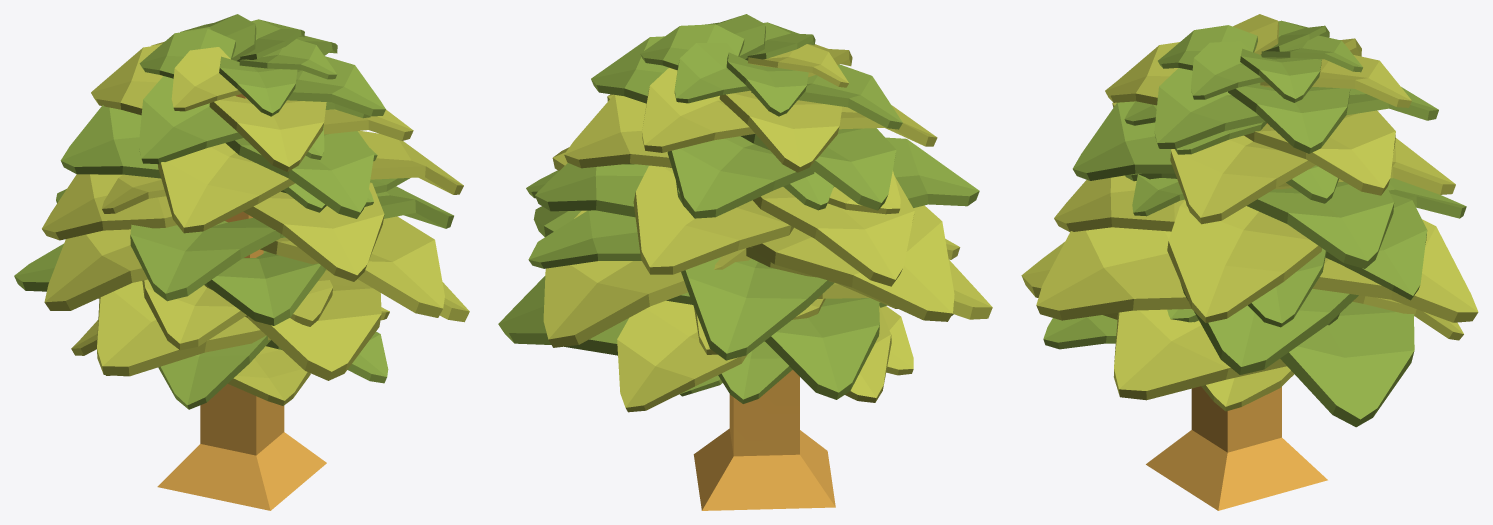
The model's file is TreeFruitL3-A.fbx.
3 renders of one model, left to right at view 1: azimuth 30°, elevation 25°; view 2: azimuth 150°, elevation 25°; view 3: azimuth 270°, elevation 25°, orthographic. The views are drawn at different scales.
Visible parts, largest first — view 1: Plane.002; view 2: Plane.002; view 3: Plane.002.
Part boxes in pixels (left/top/right/bottom): Plane.002: left=14, top=14, right=469, bottom=510; Plane.002: left=498, top=14, right=992, bottom=510; Plane.002: left=1021, top=14, right=1478, bottom=510.
Size of the model in its own units: 884 by 889 by 837.
